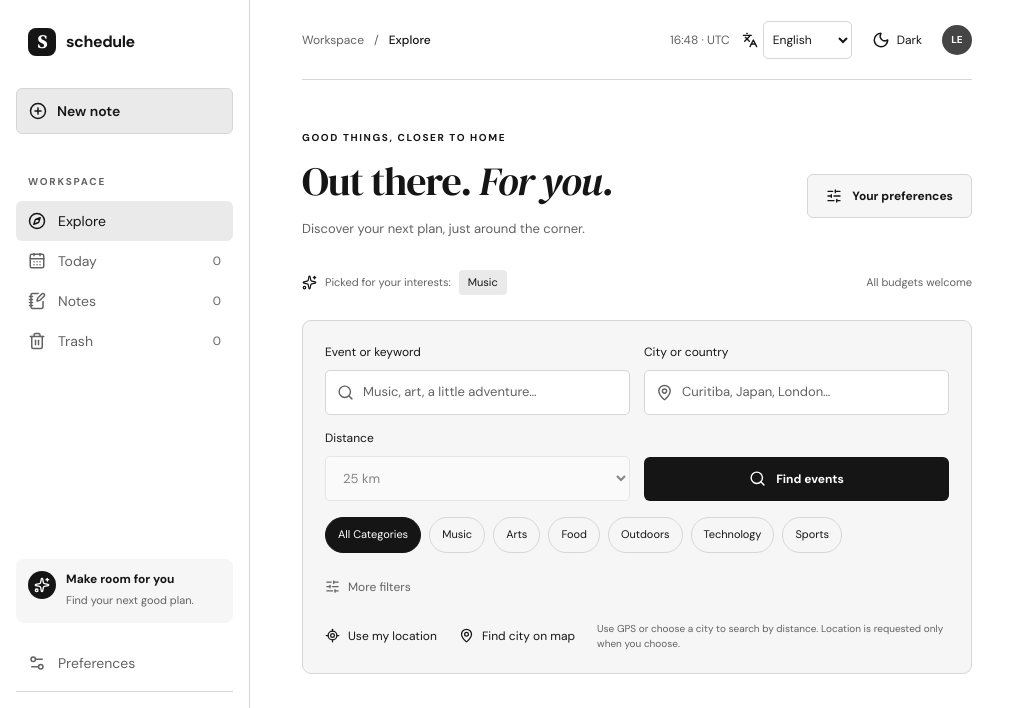
Test: post-login workspace › translates account navigation and keeps an unfinished agenda draft across language changes
Click the button "Today 0".
click(124, 261)  # box [16, 241, 233, 281]
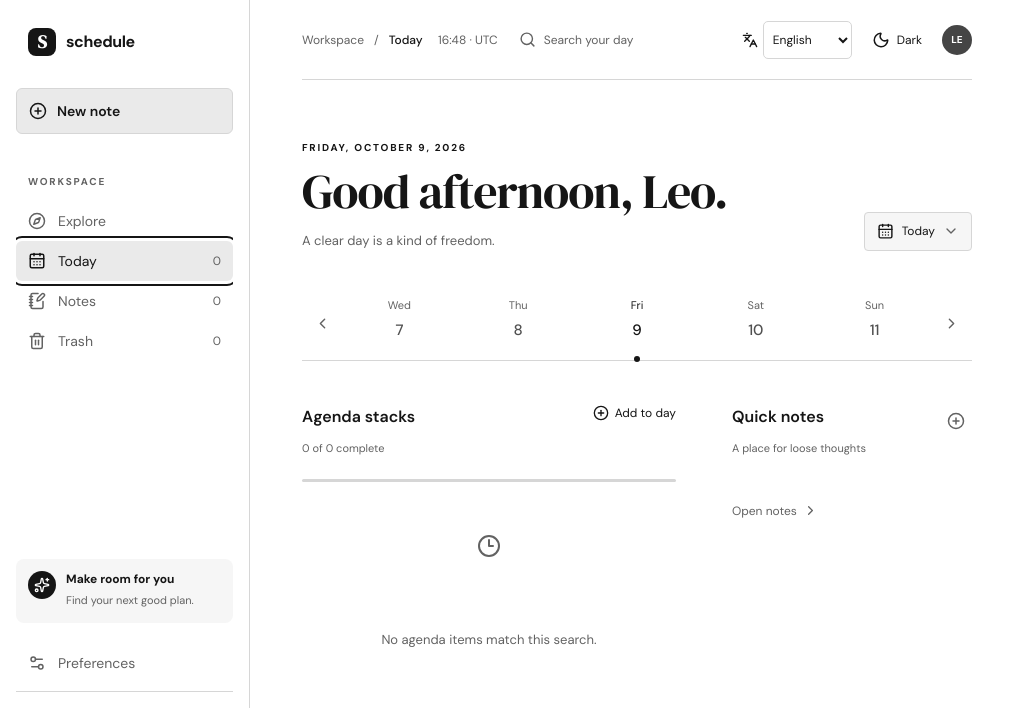
Click the button "Add to day".
click(634, 412)  # box [593, 404, 676, 420]
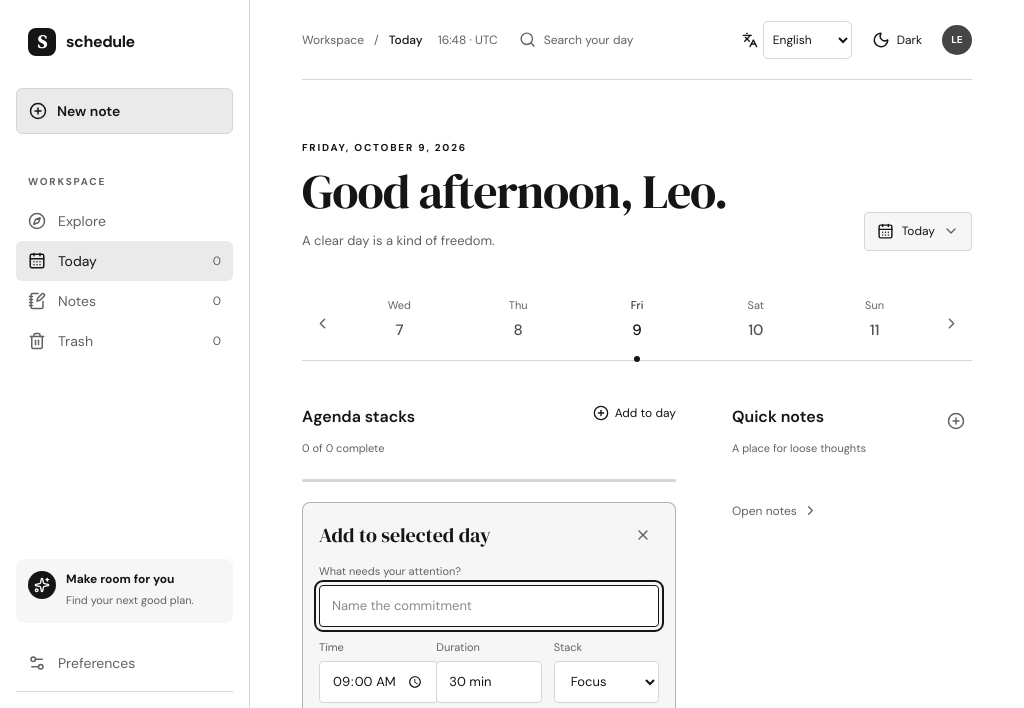
Type "Meu plano" into the field labelled "What needs your attention?".
click(489, 606); type("Meu plano")  # box [319, 585, 659, 626]
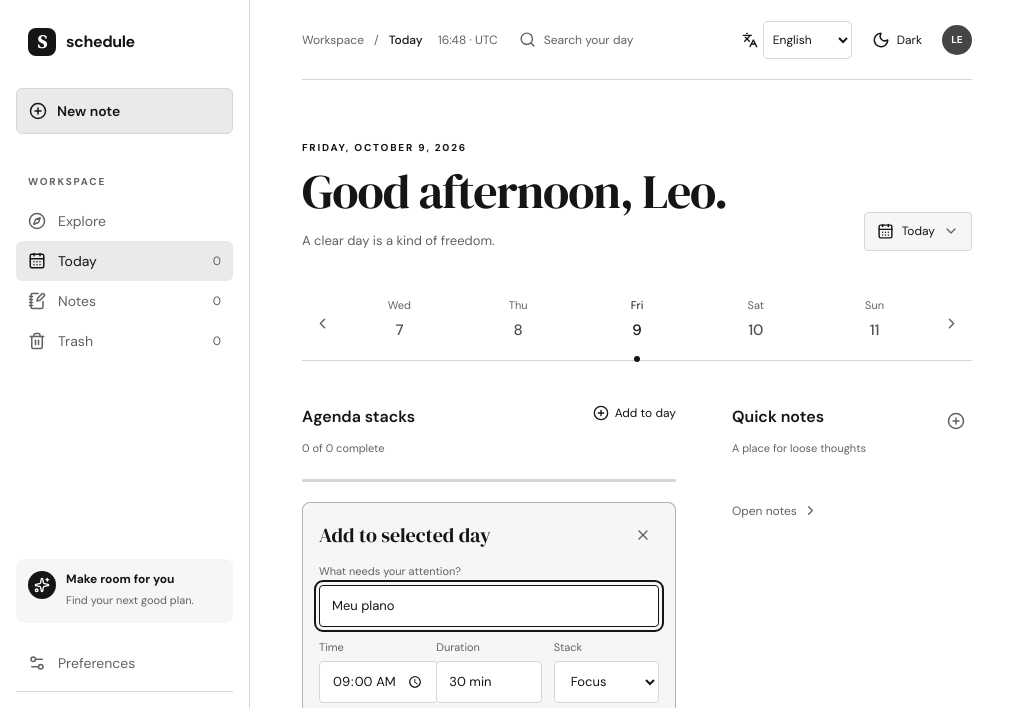
Select "Português" in the dropdown named "Language" at (807, 40), box [763, 20, 852, 58]
(page scrolled)
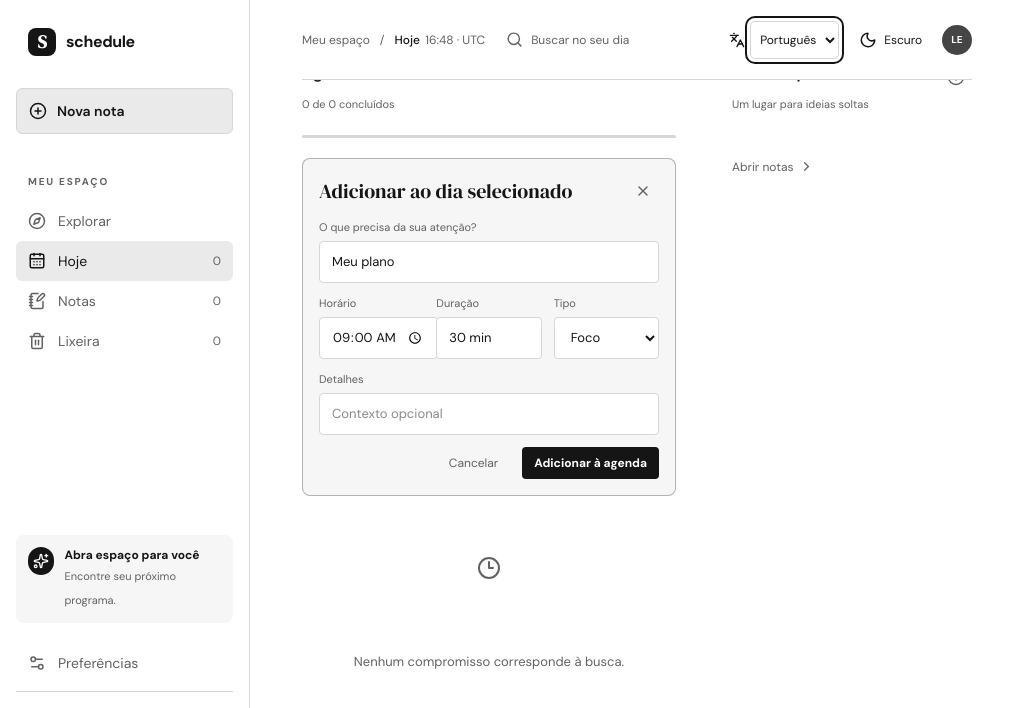
Expected: the button "Explorar" is shown, [16, 201, 233, 241]
Expected: the button "Adicionar à agenda" is shown, [522, 447, 659, 479]
Click the button "Cancelar".
click(474, 463)  # box [437, 447, 510, 479]
(page scrolled)
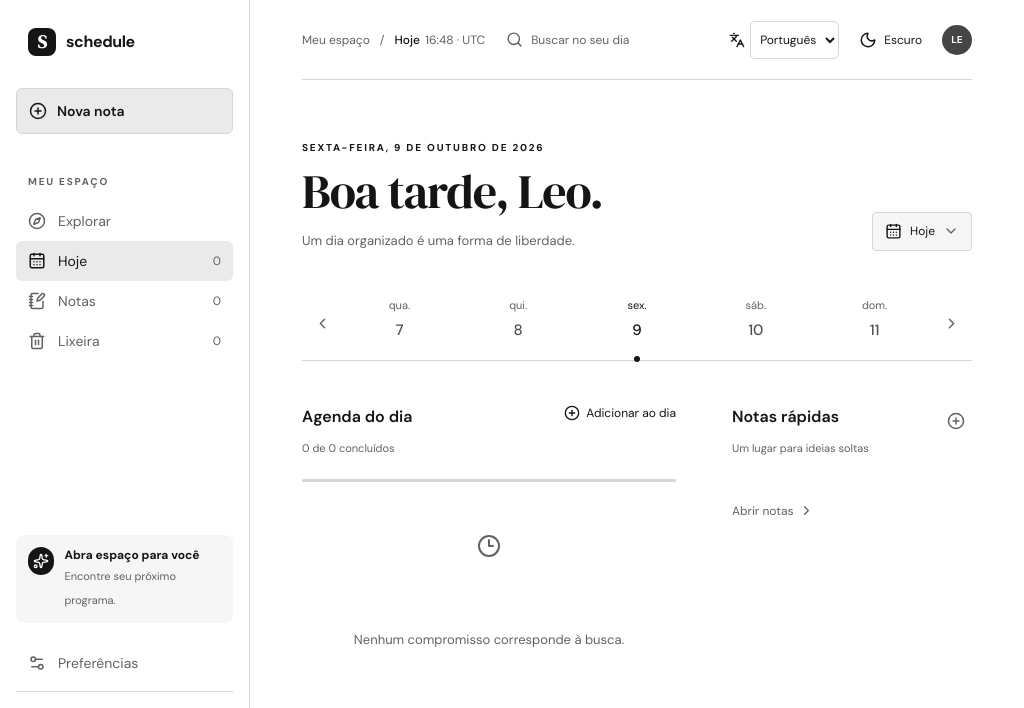
Click the button "Lixeira 0".
click(124, 341)  # box [16, 321, 233, 361]
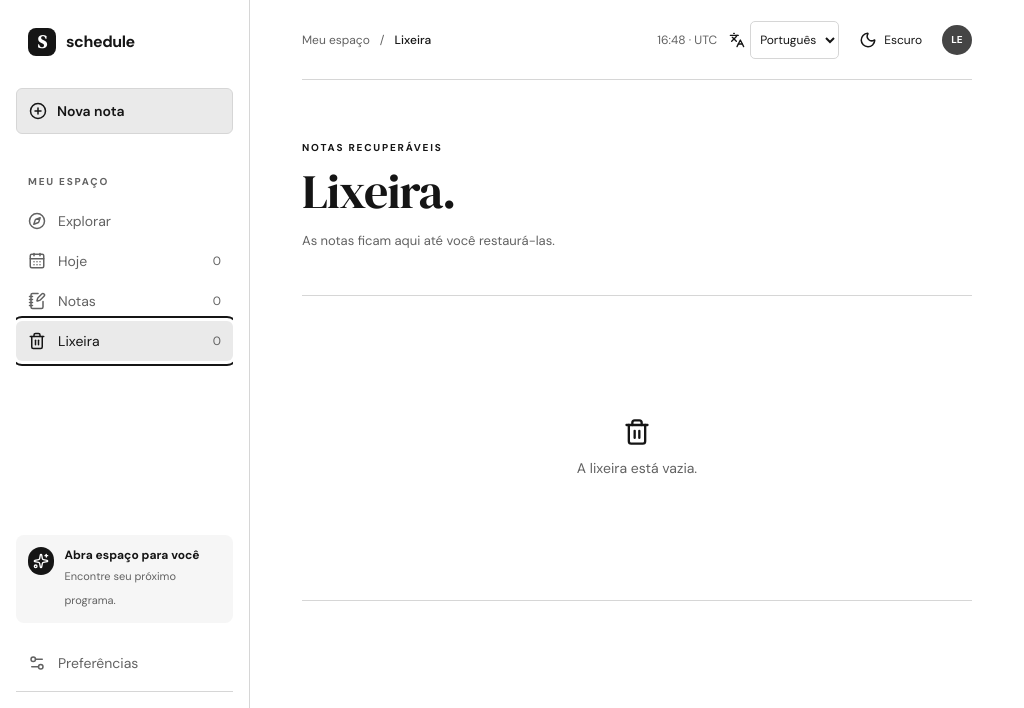
Expected: the text "As notas ficam aqui até você restaurá-las." is shown, [302, 231, 555, 250]
